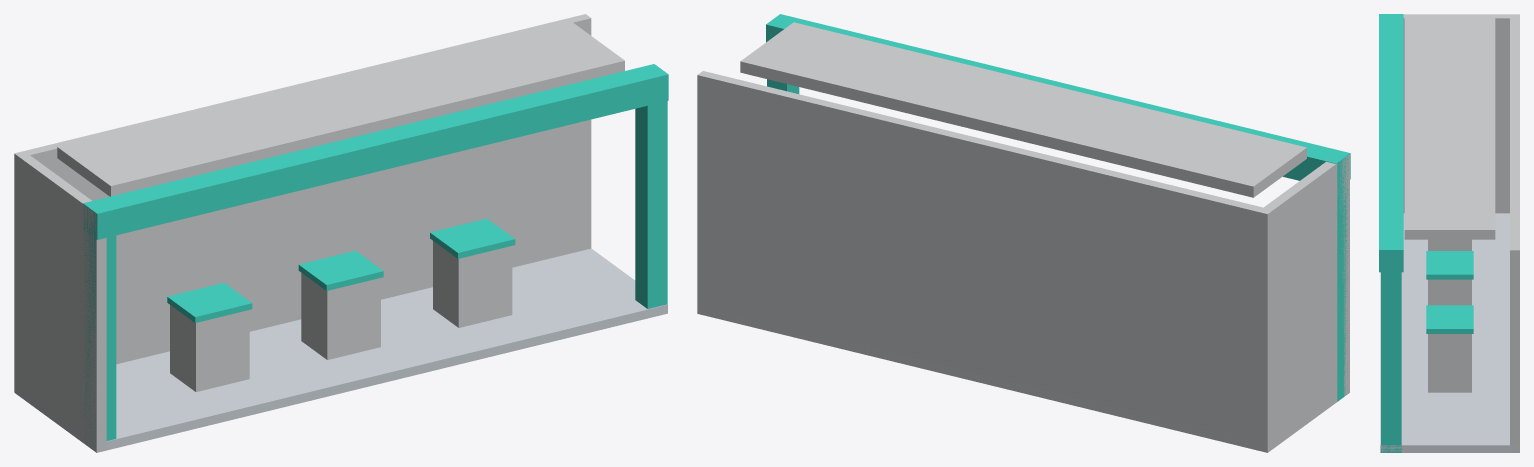
3 renders of one model, left to right at view 1: azimuth 30°, elevation 25°; view 2: azimuth 150°, elevation 25°; view 3: azimuth 270°, elevation 25°, orthographic. The views are drawn at different scales.
Parts seen in each view (by area): view 1: Exhibition Booth Concept; view 2: Exhibition Booth Concept; view 3: Exhibition Booth Concept.
Boxes of the visible parts, bbox=[...] form: Exhibition Booth Concept: bbox=[14, 14, 668, 452]; Exhibition Booth Concept: bbox=[697, 14, 1350, 452]; Exhibition Booth Concept: bbox=[1379, 14, 1519, 452].
Size of the model in its own units: 8 by 3.34 by 2.01.
